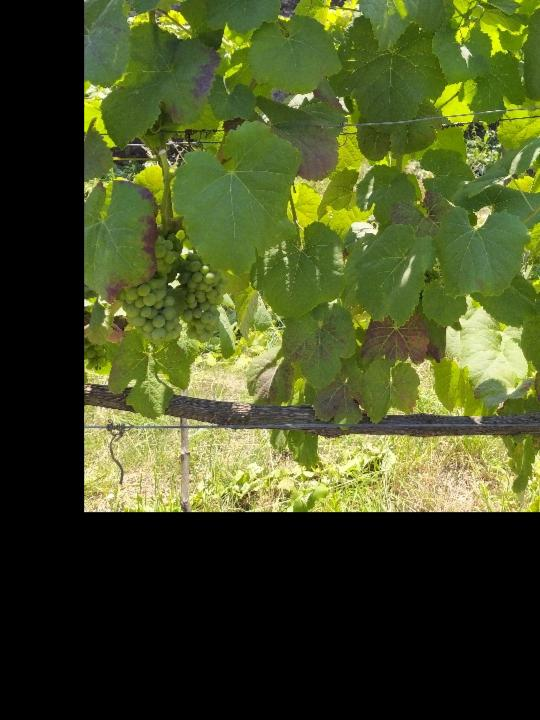grape: (116, 233, 183, 345), (182, 251, 225, 344)
